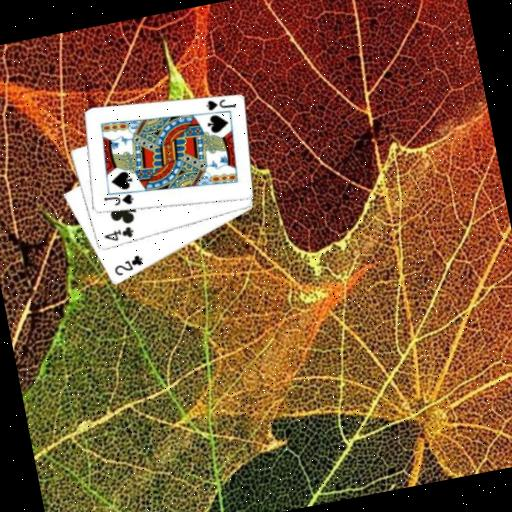2C: (110, 252, 147, 279)
4C: (100, 223, 137, 246)
JS: (100, 190, 136, 212), (202, 93, 238, 115)
